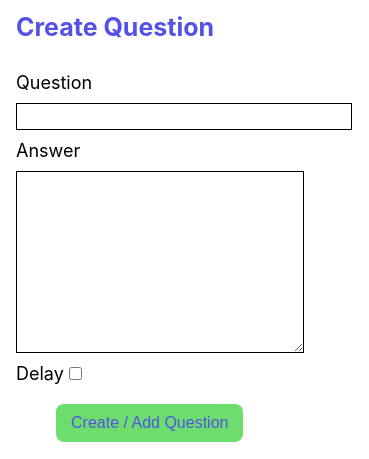
Test case: AddQuestion › Should set incorrect question max value when input value is out of limt
Type "How to test application?How to test application?How to test application?" into the field labelled "Question" at (184, 116), box [16,103,352,130]
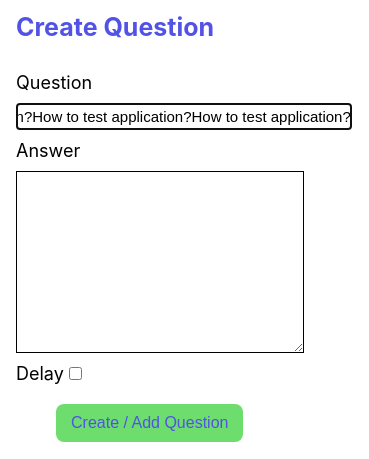
Expected: the field labelled "Question" does not hold "How to test application?How to test application?How to test application?", [16,103,352,130]
